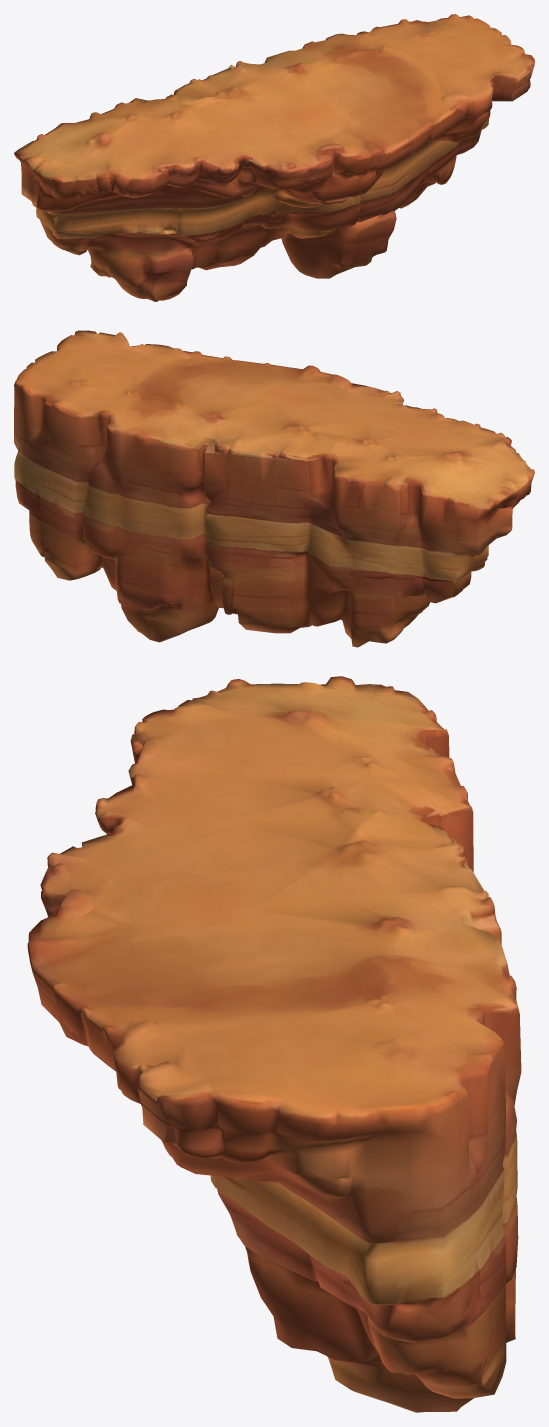
Rendered from SM_Env_DesertCaveCeilingRift.glb.
The picture shows the model from 3 angles, top to bottom: view 1: azimuth 30°, elevation 25°; view 2: azimuth 150°, elevation 25°; view 3: azimuth 270°, elevation 25°; orthographic projection. The views are drawn at different scales.
Parts seen in each view (by area): view 1: SM_Env_DesertCaveCeilingRift_LOD0; view 2: SM_Env_DesertCaveCeilingRift_LOD0; view 3: SM_Env_DesertCaveCeilingRift_LOD0.
Boxes of the visible parts, x1=… form: SM_Env_DesertCaveCeilingRift_LOD0: x1=14, y1=14, x2=534, y2=301; SM_Env_DesertCaveCeilingRift_LOD0: x1=14, y1=330, x2=534, y2=647; SM_Env_DesertCaveCeilingRift_LOD0: x1=27, y1=676, x2=521, y2=1412.
Size of the model in its own units: 20.09 by 9 by 9.04.
1 material, 1 textured.
